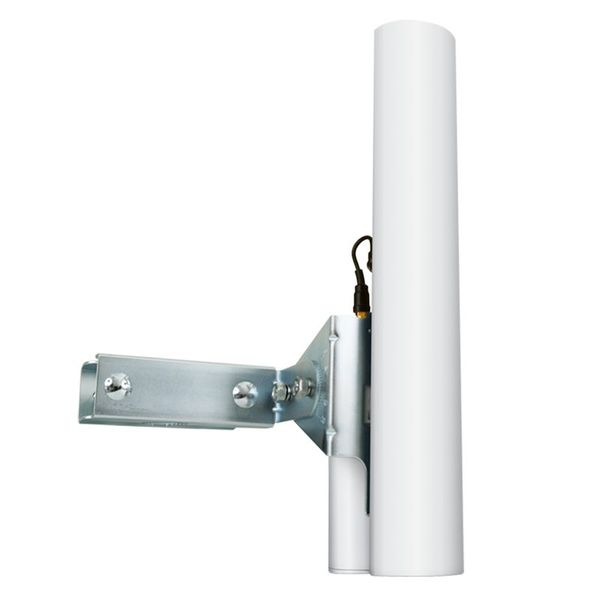sa: (319, 7, 490, 585)
